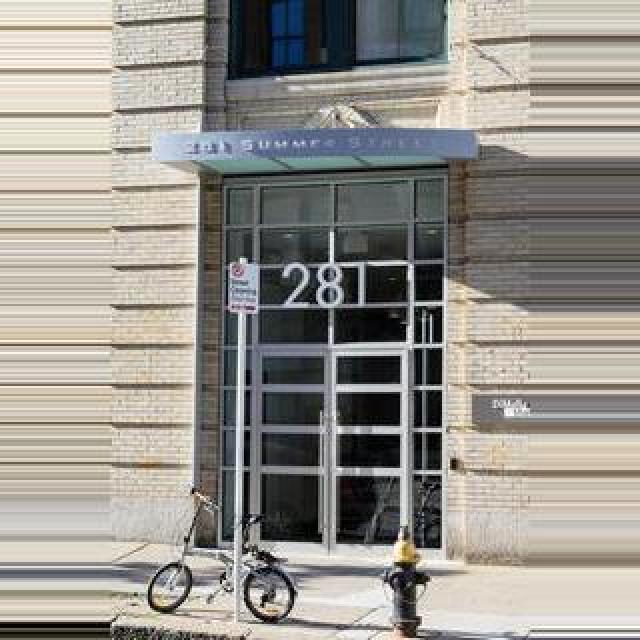Person: (147, 486, 299, 622)
